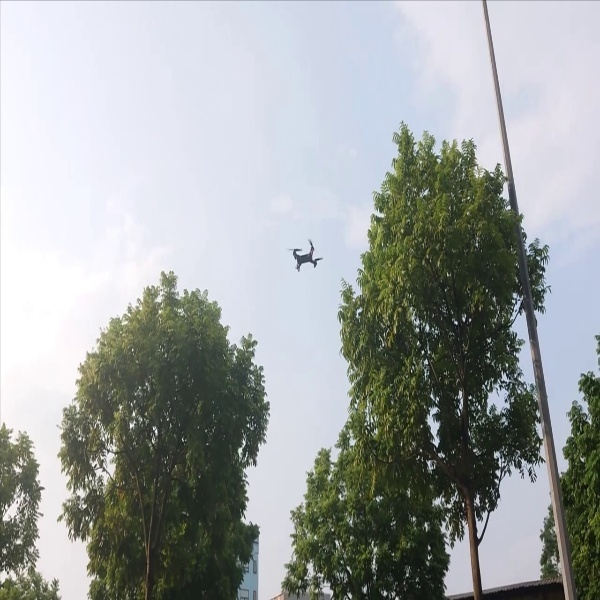drone: (287, 239, 329, 270)
